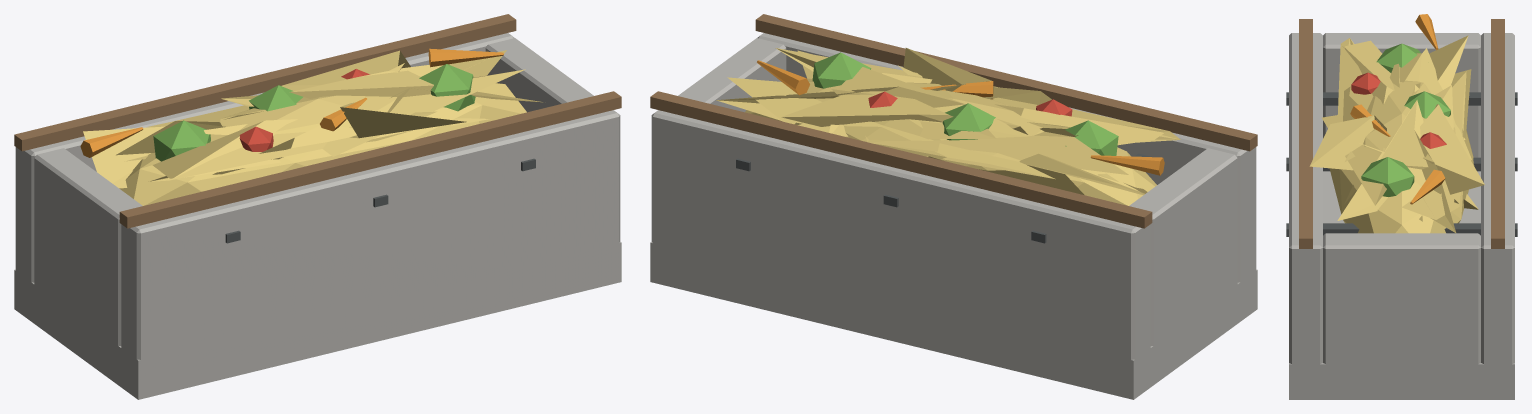
The model's file is elephant_feeder.glb.
3 renders of one model, left to right at view 1: azimuth 30°, elevation 25°; view 2: azimuth 150°, elevation 25°; view 3: azimuth 270°, elevation 25°, orthographic. The views are drawn at different scales.
Visible parts, largest first — view 1: ElephantFeeder_concrete, ElephantFeeder_hay, ElephantFeeder_wood_dark, ElephantFeeder_produce_green, ElephantFeeder_produce_orange, ElephantFeeder_produce_red; view 2: ElephantFeeder_concrete, ElephantFeeder_hay, ElephantFeeder_wood_dark, ElephantFeeder_produce_green, ElephantFeeder_produce_orange, ElephantFeeder_produce_red, ElephantFeeder_metal_dark; view 3: ElephantFeeder_concrete, ElephantFeeder_hay, ElephantFeeder_wood_dark, ElephantFeeder_produce_green, ElephantFeeder_metal_dark, ElephantFeeder_produce_orange, ElephantFeeder_produce_red.
Part boxes in pixels (x1,y1,x2,y2): ElephantFeeder_concrete: (14,33,621,399); ElephantFeeder_hay: (83,50,542,205); ElephantFeeder_wood_dark: (14,14,621,228); ElephantFeeder_produce_green: (153,64,475,161); ElephantFeeder_produce_orange: (80,48,503,157); ElephantFeeder_produce_red: (239,69,369,151); ElephantFeeder_concrete: (650,33,1257,399); ElephantFeeder_hay: (716,48,1180,205); ElephantFeeder_wood_dark: (650,14,1257,228); ElephantFeeder_produce_green: (812,52,1118,155); ElephantFeeder_produce_orange: (757,60,1164,175); ElephantFeeder_produce_red: (868,91,1072,116); ElephantFeeder_metal_dark: (736,153,1151,243); ElephantFeeder_concrete: (1289,33,1514,399); ElephantFeeder_hay: (1309,35,1484,233); ElephantFeeder_wood_dark: (1299,19,1504,248); ElephantFeeder_produce_green: (1361,43,1450,196); ElephantFeeder_metal_dark: (1286,92,1517,236); ElephantFeeder_produce_orange: (1350,14,1445,204); ElephantFeeder_produce_red: (1351,72,1446,148).
Size of the model in its own units: 1.84 by 0.74 by 0.82.
